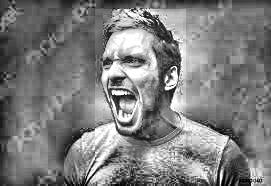angry: (96, 10, 187, 162)
